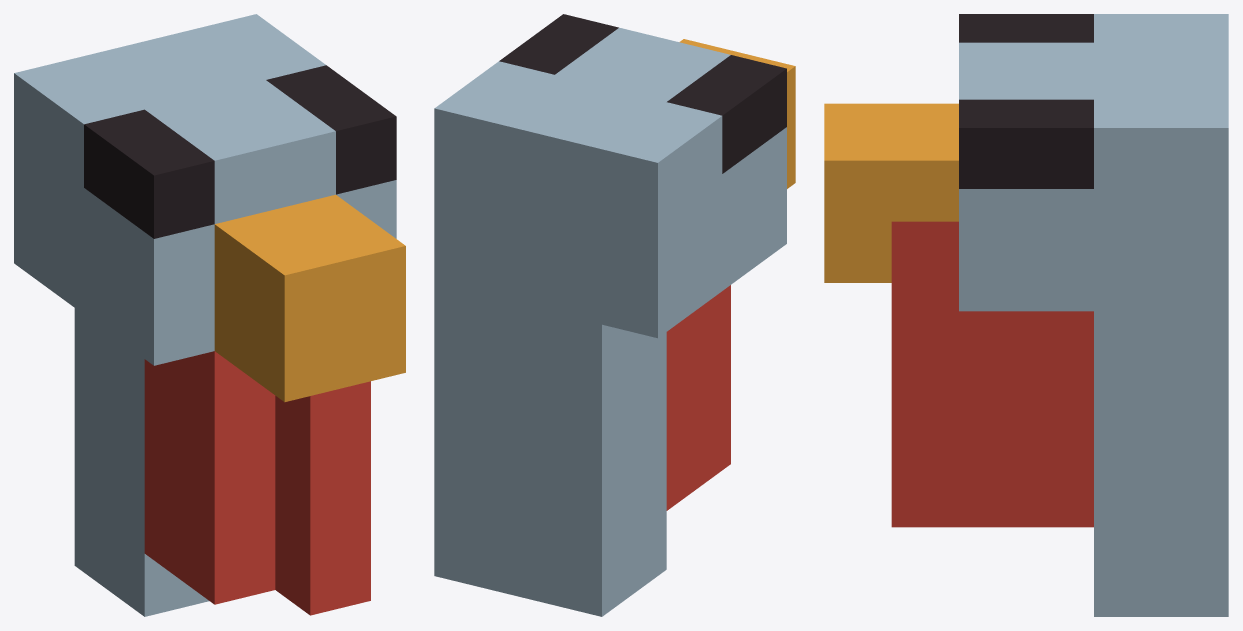
Rendered from turkey__head.glb.
3 renders of one model, left to right at view 1: azimuth 30°, elevation 25°; view 2: azimuth 150°, elevation 25°; view 3: azimuth 270°, elevation 25°, orthographic. The views are drawn at different scales.
Visible parts, largest first — view 1: turkey__head; view 2: turkey__head; view 3: turkey__head.
Boxes of the visible parts, bbox=[...] form: turkey__head: bbox=[14, 14, 405, 616]; turkey__head: bbox=[434, 14, 795, 616]; turkey__head: bbox=[824, 14, 1228, 616].
Bounding box in the file's own units: 0.4 × 0.8 × 0.6.
1 material, 1 textured.
